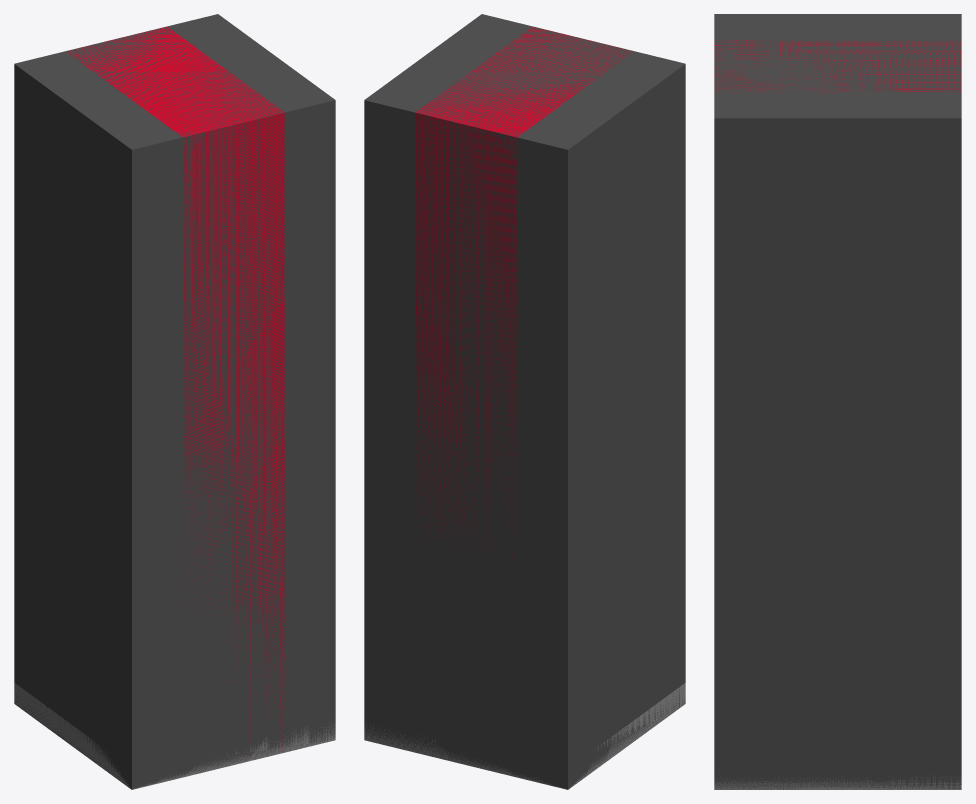
The model's file is space_colony_ship_meshes.glb.
3 renders of one model, left to right at view 1: azimuth 30°, elevation 25°; view 2: azimuth 150°, elevation 25°; view 3: azimuth 270°, elevation 25°, orthographic. The views are drawn at different scales.
Parts seen in each view (by area): view 1: wall_00-col, door_00-col, floor_00-col; view 2: wall_00-col, door_00-col, floor_00-col; view 3: wall_00-col, door_00-col, floor_00-col.
Boxes of the visible parts, x1=… form: wall_00-col: x1=14, y1=14, x2=335, y2=789; door_00-col: x1=66, y1=26, x2=284, y2=752; floor_00-col: x1=14, y1=683, x2=335, y2=789; wall_00-col: x1=364, y1=14, x2=685, y2=789; door_00-col: x1=415, y1=26, x2=633, y2=561; floor_00-col: x1=364, y1=683, x2=685, y2=789; wall_00-col: x1=714, y1=14, x2=961, y2=789; door_00-col: x1=714, y1=40, x2=961, y2=92; floor_00-col: x1=714, y1=776, x2=961, y2=789.
Size of the model in its own units: 1 by 3 by 1.
